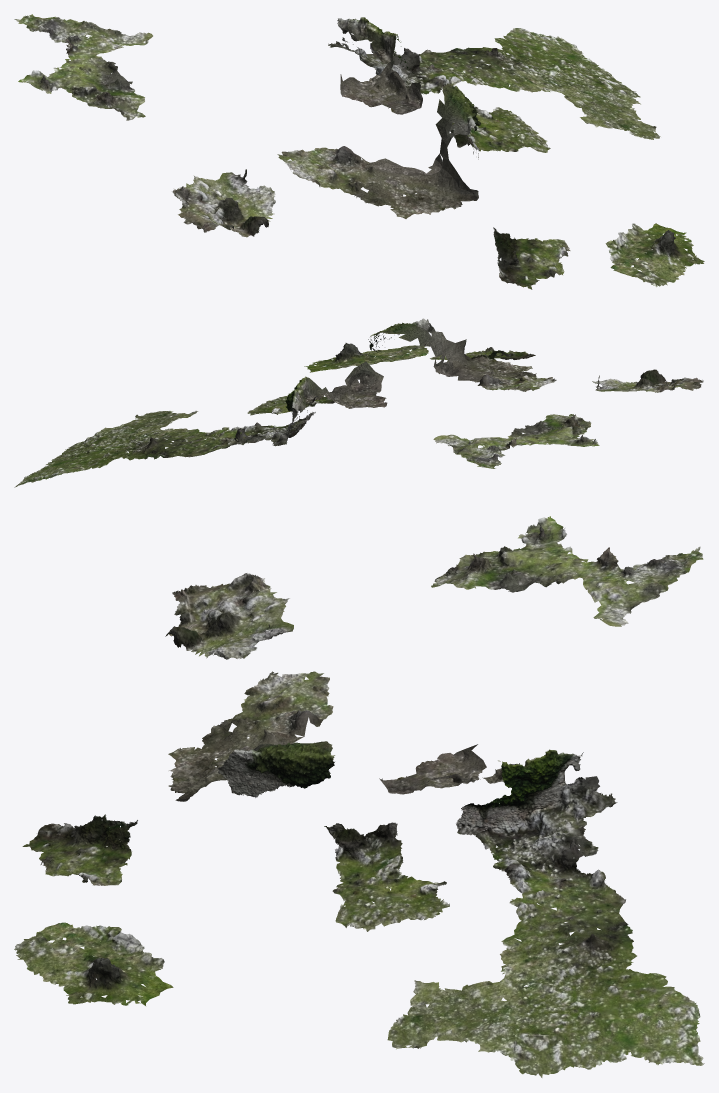
3 views of the same model, one above another, from view 1: azimuth 30°, elevation 25°; view 2: azimuth 150°, elevation 25°; view 3: azimuth 270°, elevation 25° (orthographic). The views are drawn at different scales.
Size of the model in its own units: 61.13 by 15.88 by 48.38.
1 material, 1 textured.
